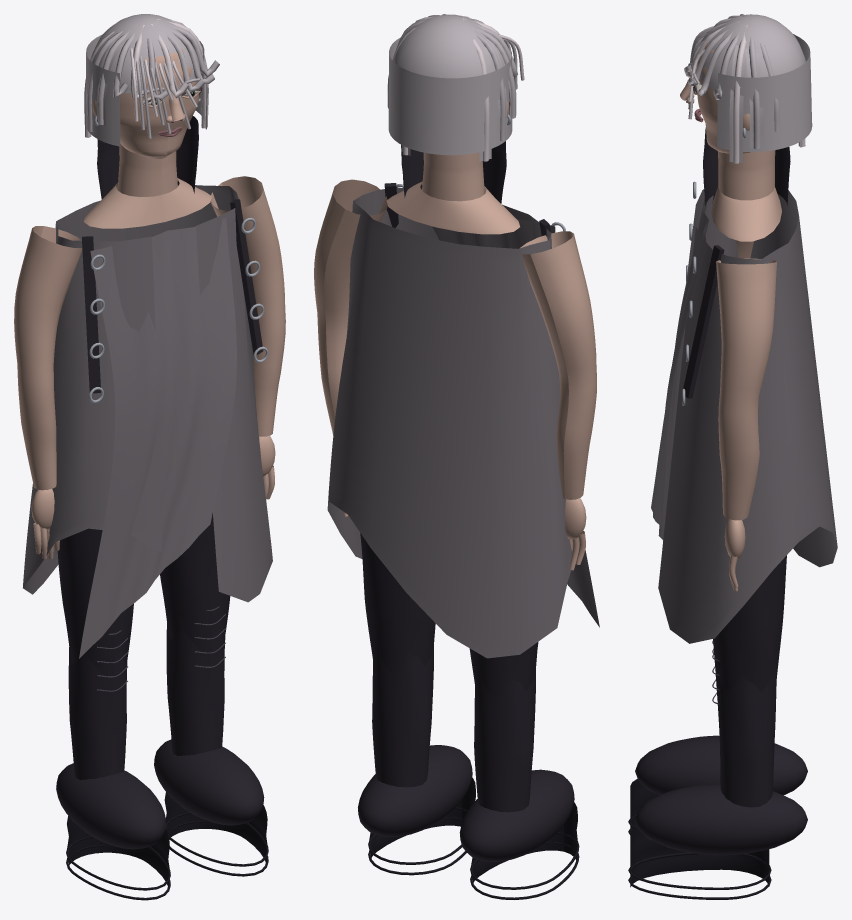
Rendered from look-7-crowd.glb.
3 renders of one model, left to right at view 1: azimuth 30°, elevation 25°; view 2: azimuth 150°, elevation 25°; view 3: azimuth 270°, elevation 25°, orthographic. The views are drawn at different scales.
Parts seen in each view (by area): view 1: look-7-crowd, leg-1, leg-0, arm-0, arm-1; view 2: look-7-crowd, leg-1, leg-0, arm-0, arm-1; view 3: look-7-crowd, leg-1, arm-1, leg-0.
Boxes of the visible parts, box(x1,y1,x2,y2) form: look-7-crowd: box(23, 14, 272, 658); leg-1: box(154, 513, 268, 876); leg-0: box(56, 528, 170, 900); arm-0: box(14, 226, 82, 559); arm-1: box(211, 176, 285, 499); look-7-crowd: box(327, 14, 599, 658); leg-1: box(358, 533, 475, 875); leg-0: box(459, 642, 579, 899); arm-0: box(520, 231, 596, 570); arm-1: box(314, 179, 387, 516); look-7-crowd: box(651, 14, 837, 643); leg-1: box(628, 555, 807, 899); arm-1: box(716, 258, 776, 591); leg-0: box(628, 649, 807, 834).
Bounding box in the file's own units: 0.6774 × 2.04 × 0.4597.
